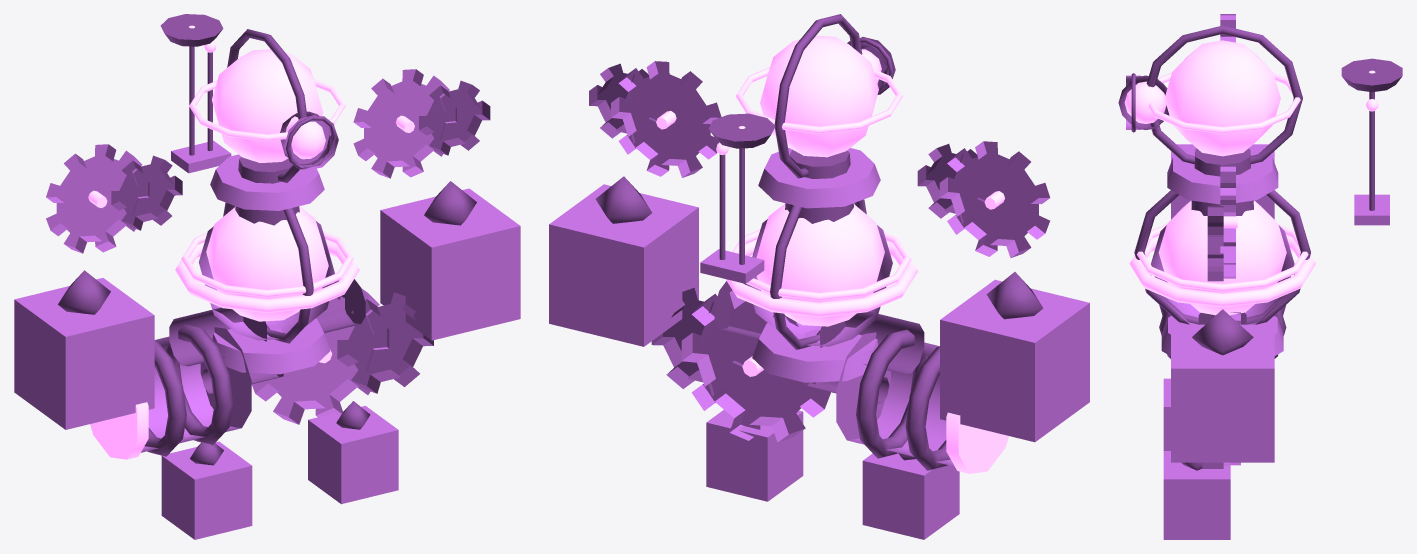
The model's file is golem_125.glb.
3 renders of one model, left to right at view 1: azimuth 30°, elevation 25°; view 2: azimuth 150°, elevation 25°; view 3: azimuth 270°, elevation 25°, orthographic. The views are drawn at different scales.
Parts seen in each view (by area): view 1: Body, Detail, Glow; view 2: Body, Detail, Glow; view 3: Body, Glow, Detail.
Part boxes in pixels (x1,y1,x2,y2): Body: (14,69,520,539); Detail: (58,14,490,465); Glow: (88,25,414,459); Body: (549,37,1089,539); Detail: (589,14,1043,470); Glow: (656,35,1008,473); Body: (1126,14,1389,539); Glow: (1124,40,1378,315); Detail: (1118,25,1402,470).
Size of the model in its own units: 1.62 by 1.56 by 0.8651.
